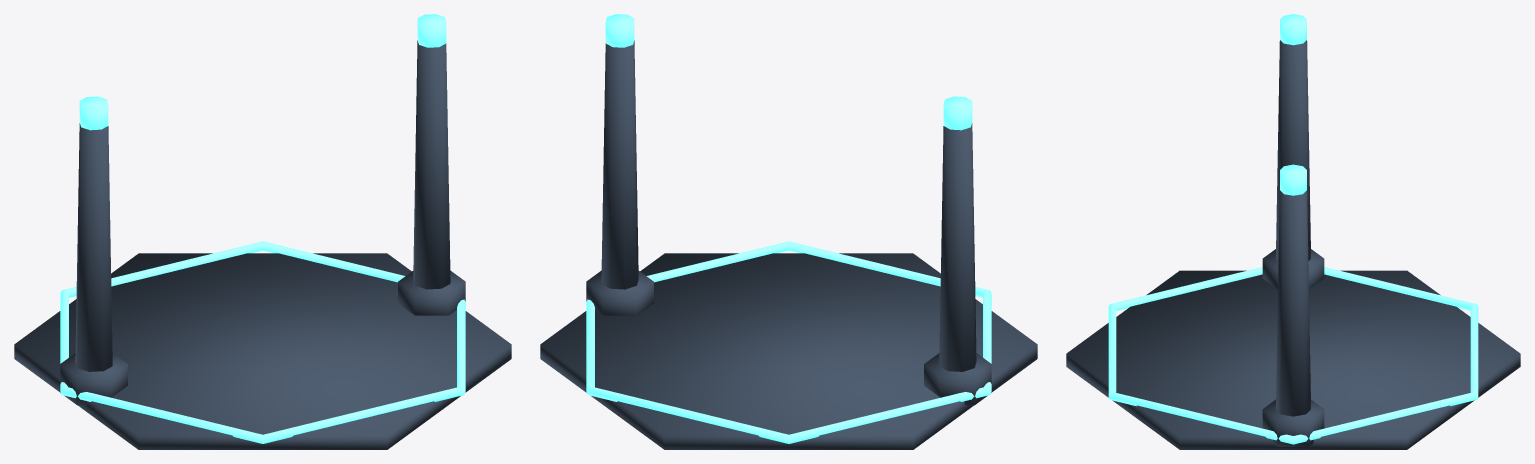
File: portal.glb
3 views of the same model, side by side, from view 1: azimuth 30°, elevation 25°; view 2: azimuth 150°, elevation 25°; view 3: azimuth 270°, elevation 25° (orthographic). The views are drawn at different scales.
Parts seen in each view (by area): view 1: Base, Pylon-1, Pylon1, BaseRim, Foot1, Foot-1, Lamp1, Lamp-1; view 2: Base, Pylon-1, Pylon1, BaseRim, Foot1, Foot-1, Lamp1, Lamp-1; view 3: Base, Pylon1, BaseRim, Pylon-1, Foot1, Foot-1, Lamp1, Lamp-1.
Boxes of the visible parts, <box> form: Base: <box>14,253,511,449</box>; Pylon-1: <box>75,123,112,371</box>; Pylon1: <box>413,40,450,289</box>; BaseRim: <box>60,241,465,443</box>; Foot1: <box>398,270,465,315</box>; Foot-1: <box>60,353,127,405</box>; Lamp1: <box>417,14,446,47</box>; Lamp-1: <box>79,96,108,130</box>; Base: <box>540,253,1037,449</box>; Pylon-1: <box>939,123,976,371</box>; Pylon1: <box>601,40,638,289</box>; BaseRim: <box>586,241,991,443</box>; Foot1: <box>586,270,653,315</box>; Foot-1: <box>924,353,991,405</box>; Lamp1: <box>605,14,634,47</box>; Lamp-1: <box>943,96,972,130</box>; Base: <box>1066,270,1520,449</box>; Pylon1: <box>1276,190,1310,416</box>; BaseRim: <box>1108,267,1478,444</box>; Pylon-1: <box>1276,40,1310,260</box>; Foot1: <box>1262,399,1324,446</box>; Foot-1: <box>1262,249,1324,289</box>; Lamp1: <box>1280,164,1306,195</box>; Lamp-1: <box>1280,14,1306,45</box>.
Size of the model in its own units: 2.35 by 1.65 by 2.5.
